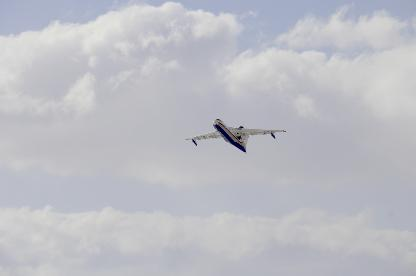B52: (186, 118, 286, 154)
